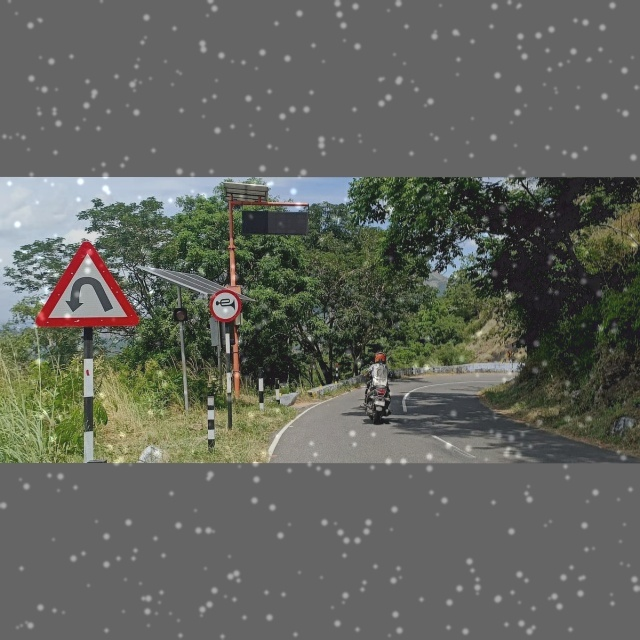Left_Hair_Pin_Bend: (35, 239, 139, 333)
